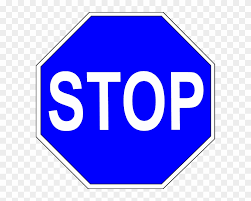SS: (36, 12, 214, 190)
